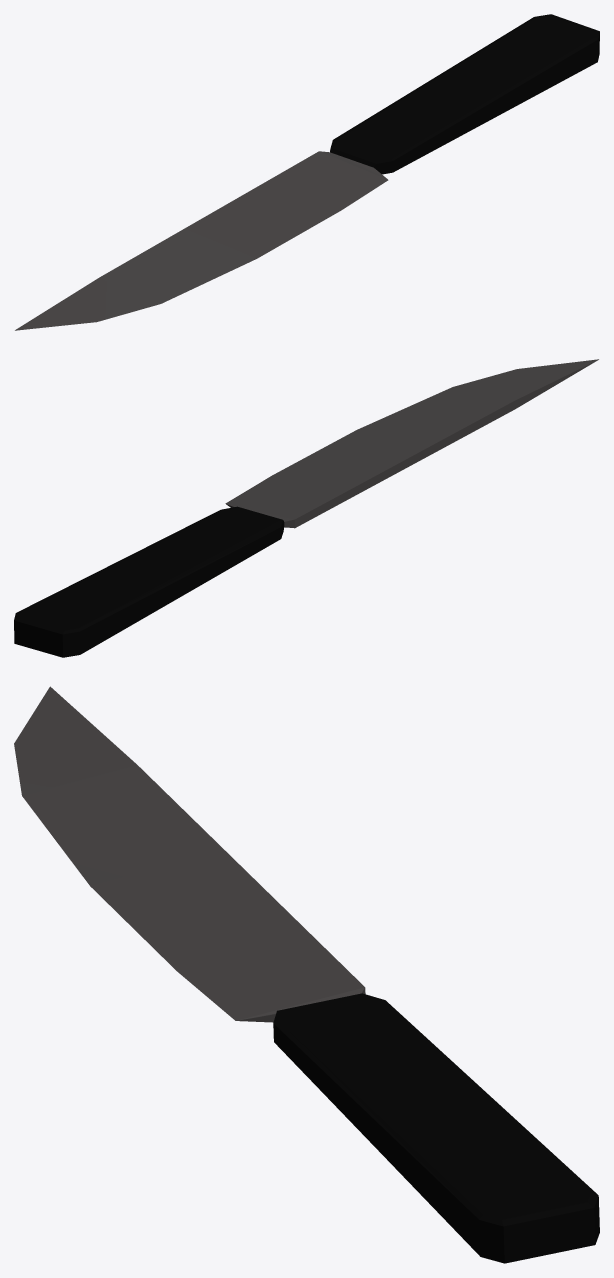
Rendered from Kitchen_Knife.FBX.
3 views of the same model, one above another, from view 1: azimuth 30°, elevation 25°; view 2: azimuth 210°, elevation 25°; view 3: azimuth 270°, elevation 25° (orthographic). The views are drawn at different scales.
Parts seen in each view (by area): view 1: Kitchen_Knife; view 2: Kitchen_Knife; view 3: Kitchen_Knife.
Part boxes in pixels (x1,y1,x2,y2): Kitchen_Knife: [15, 14, 599, 330]; Kitchen_Knife: [14, 359, 598, 657]; Kitchen_Knife: [14, 686, 599, 1263].
Size of the model in its own units: 0.2388 by 0.00869 by 0.1036.
